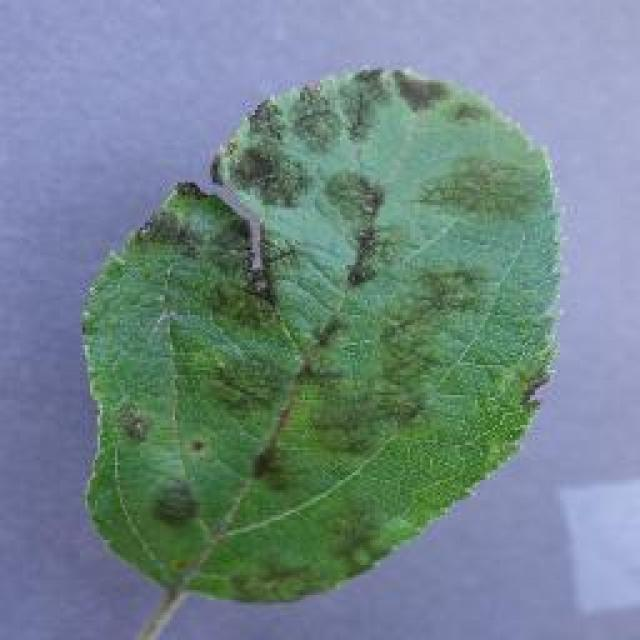apple scab disease: (77, 63, 565, 605)
